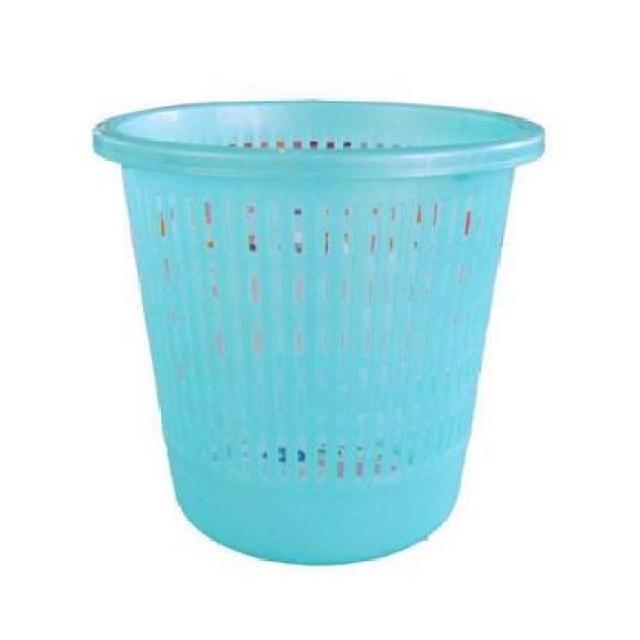dustbin: (88, 92, 548, 575)
